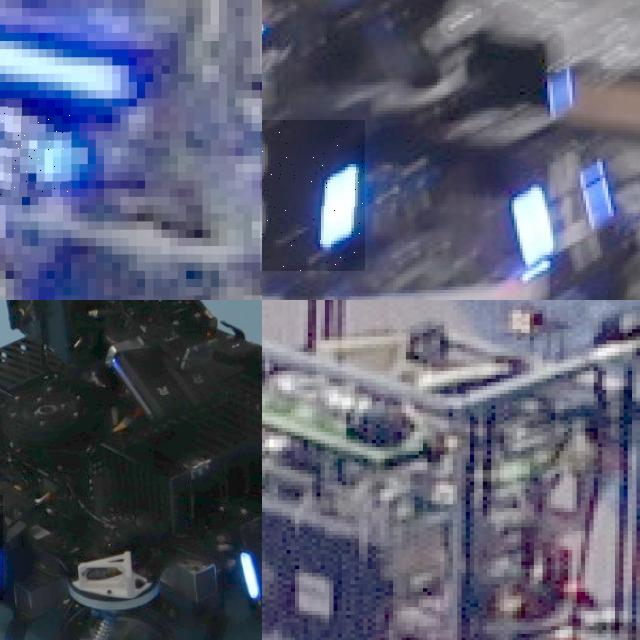B2: (0, 98, 71, 196)
B3: (262, 120, 365, 270)
B4: (514, 140, 614, 284)
